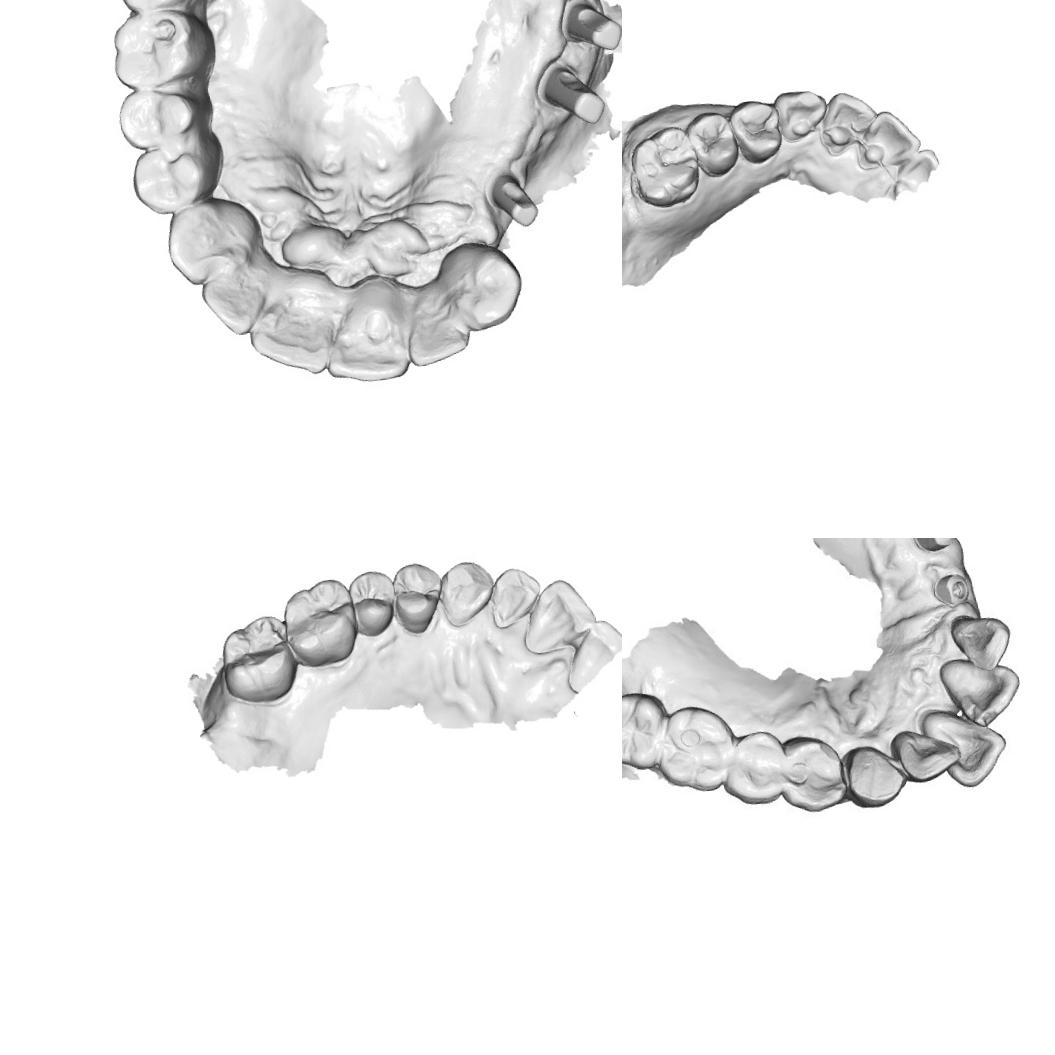abutment: (536, 54, 610, 132), (485, 166, 543, 233), (559, 0, 622, 57)
canine: (438, 236, 529, 338), (159, 195, 255, 290), (433, 555, 500, 630), (840, 742, 904, 816), (771, 86, 832, 145)
implant: (932, 570, 974, 610), (915, 538, 960, 560)
incisor: (319, 309, 416, 389), (924, 707, 1012, 793), (243, 302, 334, 384), (515, 574, 603, 657), (938, 651, 1023, 735), (197, 263, 272, 343), (402, 299, 472, 370), (944, 609, 1014, 676), (852, 105, 923, 170), (482, 562, 548, 631), (817, 88, 881, 156), (894, 727, 960, 786), (582, 616, 622, 660)
molar: (105, 5, 215, 96), (214, 611, 302, 710), (651, 703, 741, 795), (277, 575, 362, 670), (626, 124, 704, 212), (622, 688, 673, 774), (112, 0, 212, 18)
premolar: (112, 80, 208, 151), (127, 140, 210, 220), (776, 732, 848, 817), (720, 728, 791, 809), (387, 559, 448, 639), (726, 96, 786, 166), (344, 566, 400, 640), (684, 108, 742, 179)
